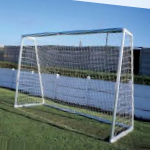goals: (14, 27, 135, 141)
